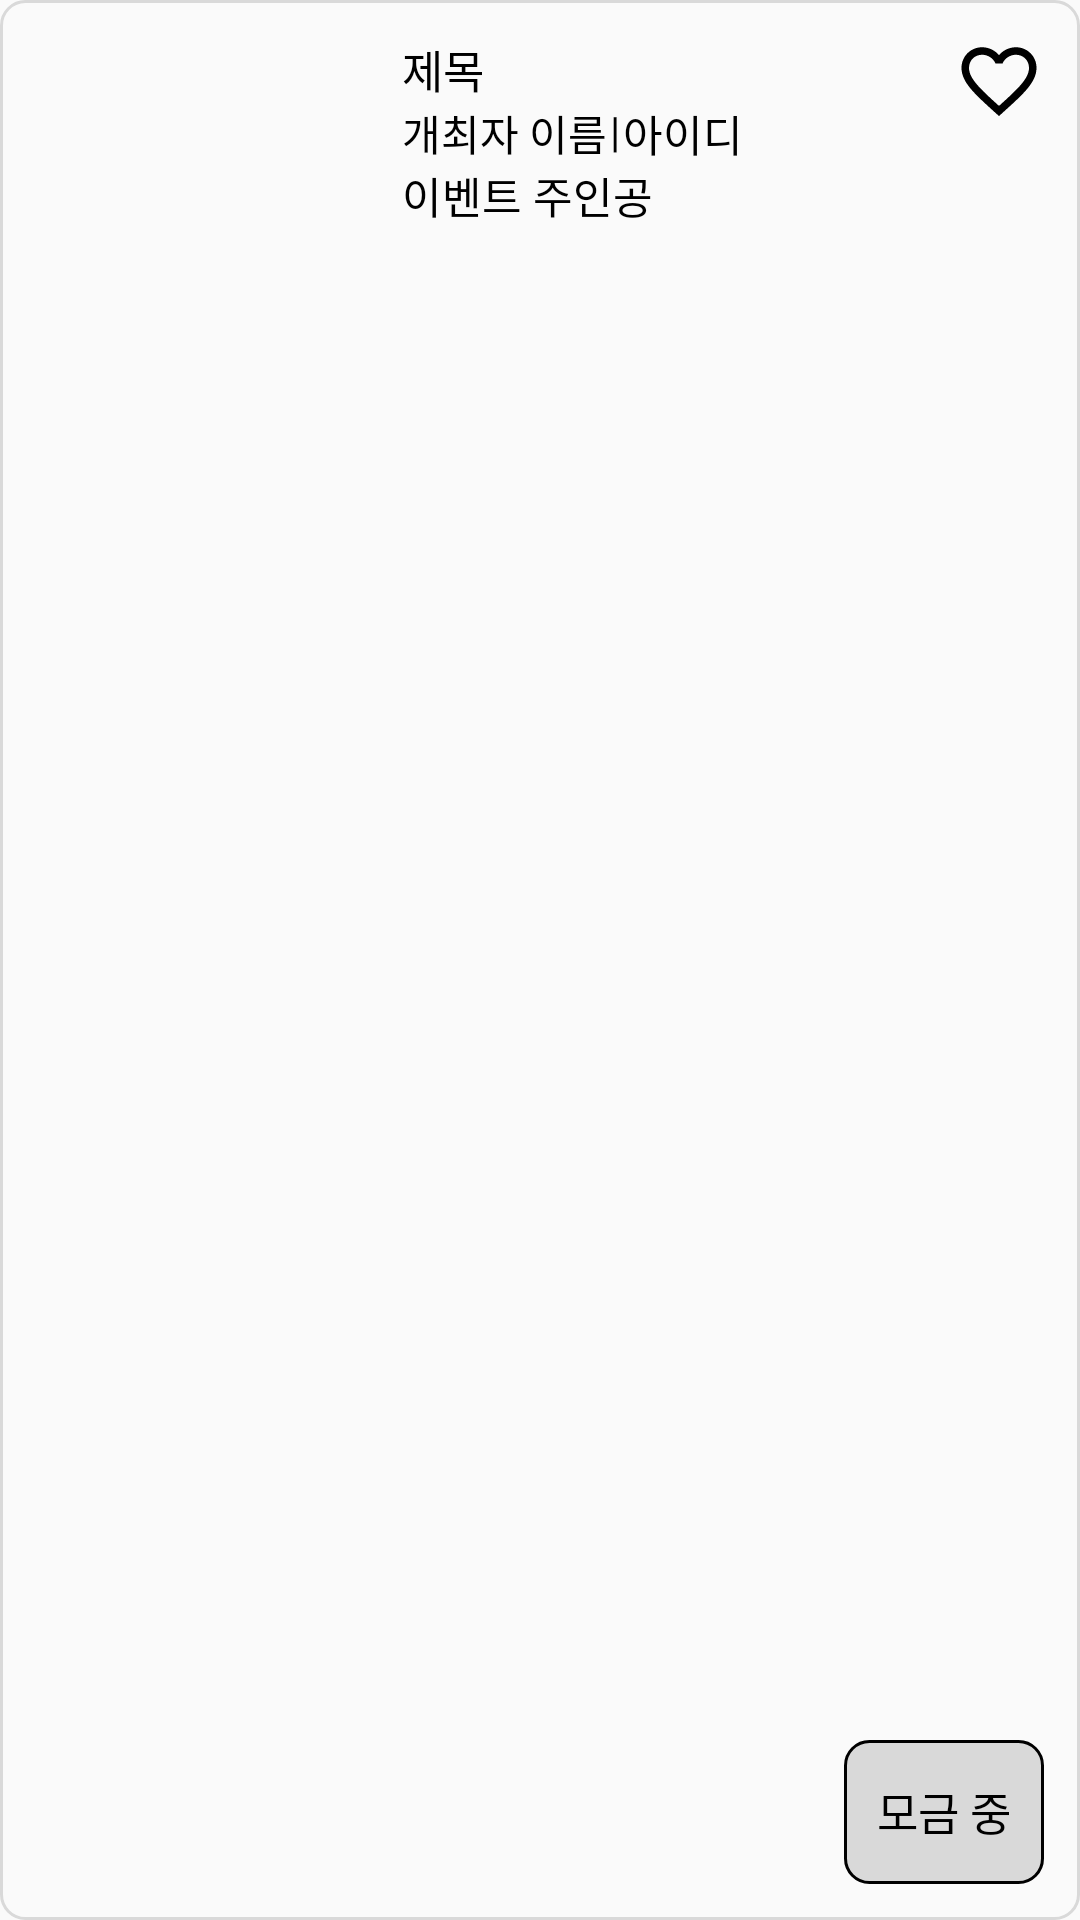

Screen size 1080*1920. Icon name, then its center in pixels as (x=x, y=y):
favorite border: (x=999, y=81)
